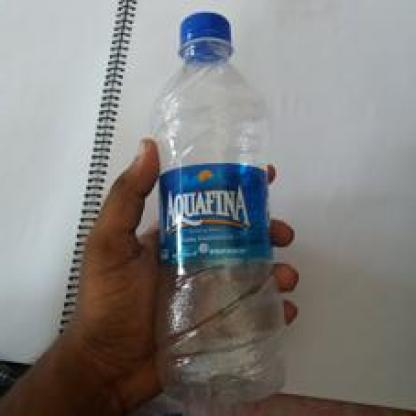bottle: (150, 12, 286, 415)
